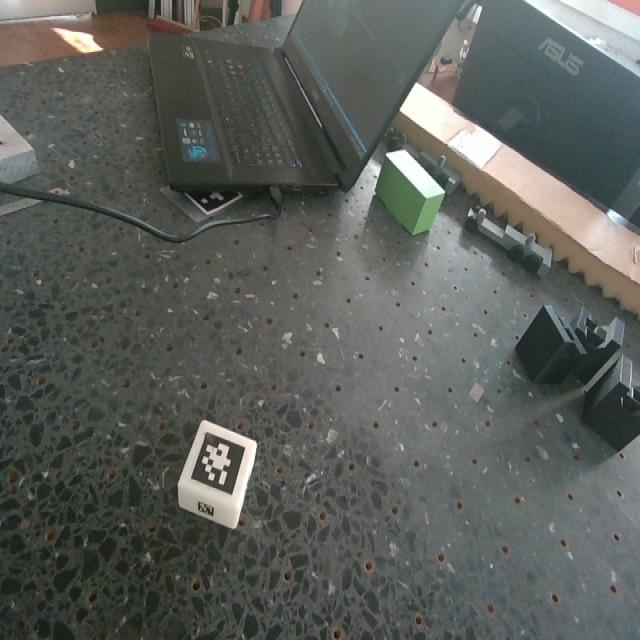Cube: (177, 423, 259, 532)
